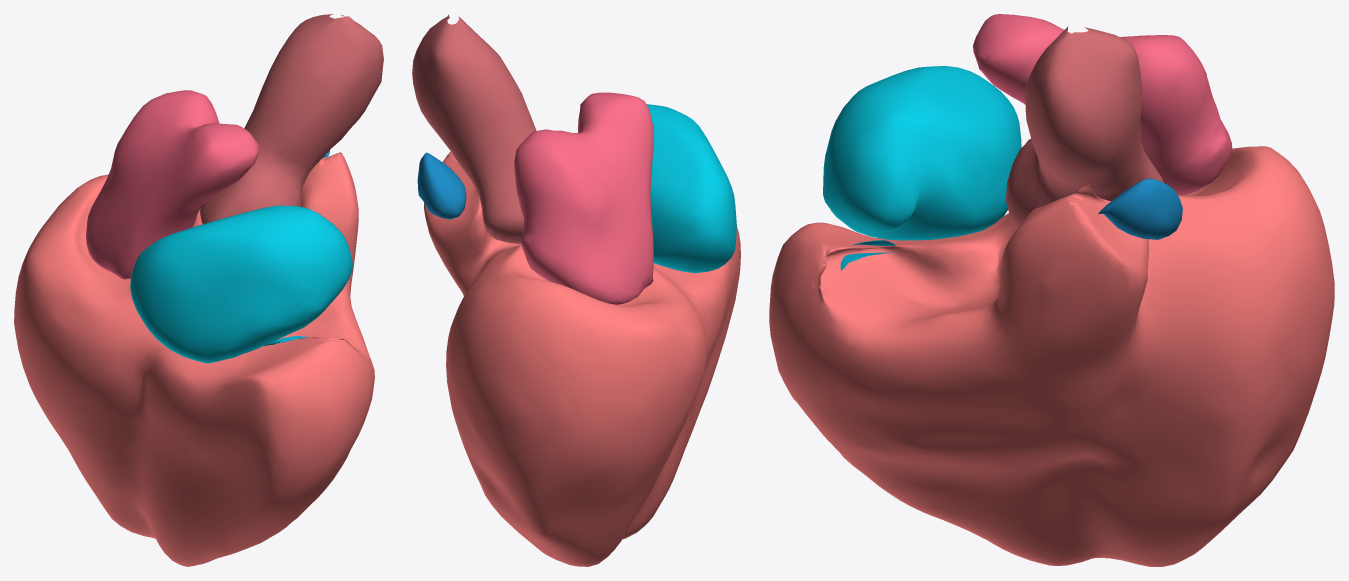
Rendered from frame_51.glb.
The picture shows the model from 3 angles, left to right: view 1: azimuth 30°, elevation 25°; view 2: azimuth 150°, elevation 25°; view 3: azimuth 270°, elevation 25°; orthographic projection. The views are drawn at different scales.
Visible parts, largest first — view 1: Renderer Node; view 2: Renderer Node; view 3: Renderer Node.
Part boxes in pixels (x1,y1,x2,y2): Renderer Node: (14, 14, 383, 566); Renderer Node: (412, 14, 740, 566); Renderer Node: (769, 14, 1334, 566).
Size of the model in its own units: 102 by 158 by 127.
